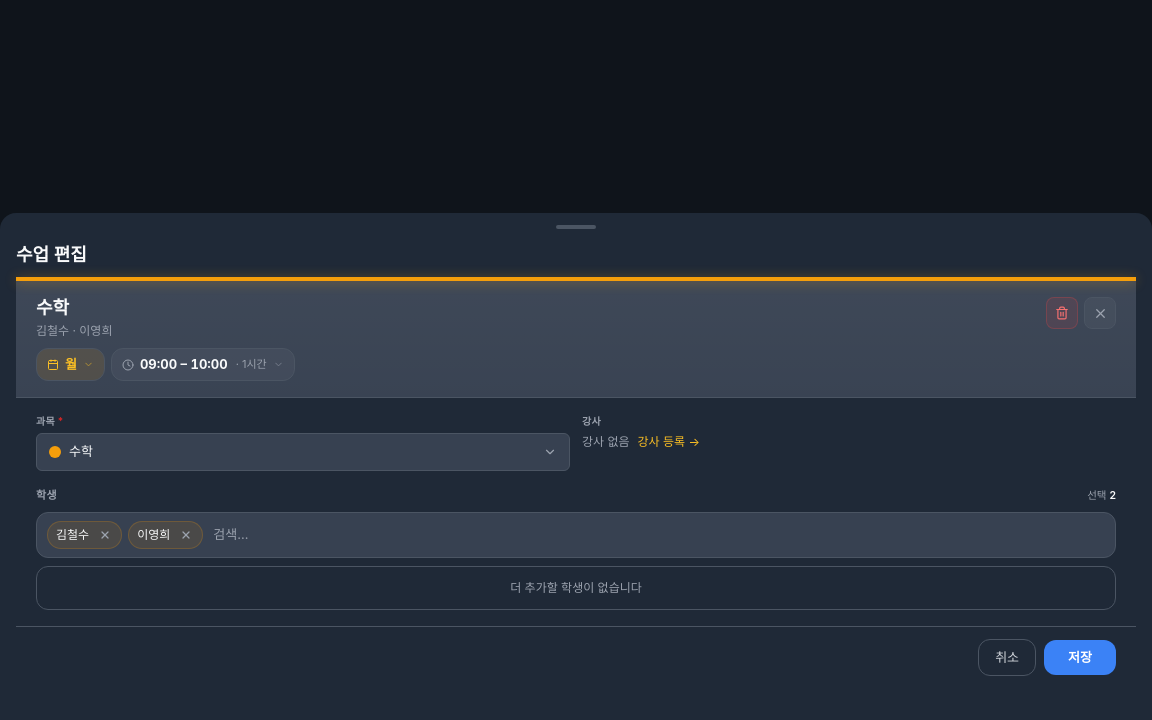
Test: EditSessionModal › 과목 선택 dropdown 펼침 시 options 렌더 (2026-05-28 native select → SubjectDropdownPicker 통일)
The image size is (1152, 720).
Click the button with test id "subject-dropdown-trigger". click: (55, 452)
box: [36,433,570,471]
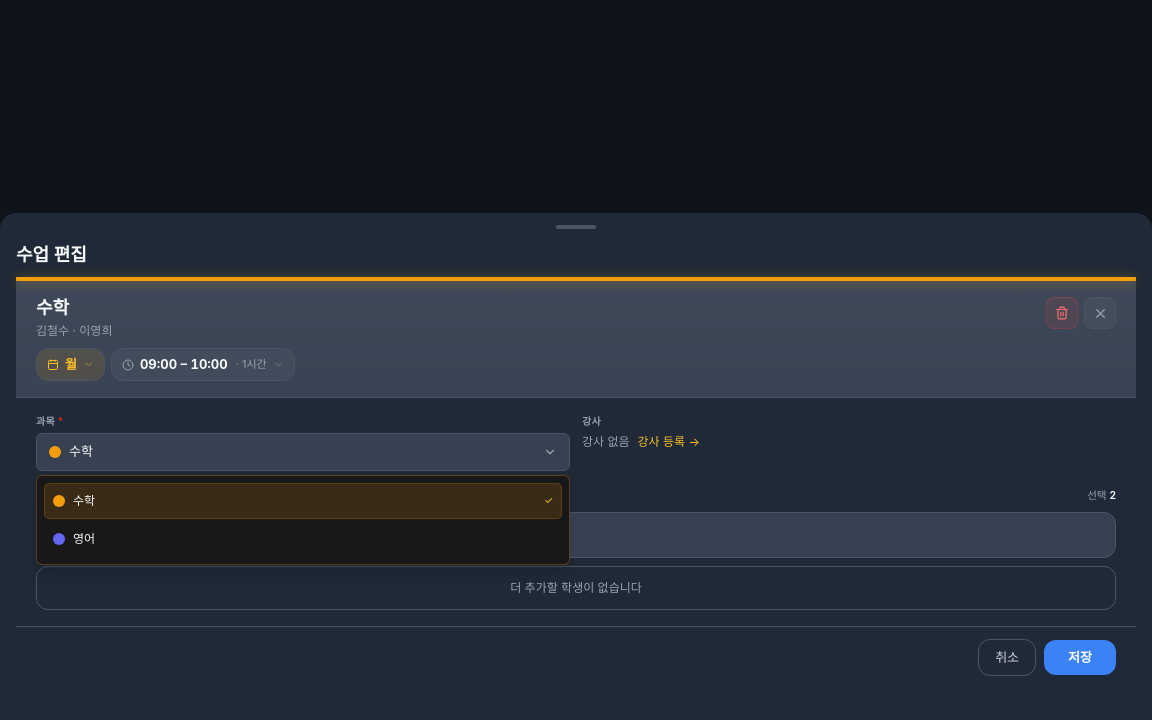
Result: the button with test id "subject-dropdown-item-sub-1" shows "수학" at [45,484,561,518]
Result: the button with test id "subject-dropdown-item-sub-2" reads "영어" at [45,522,561,556]
